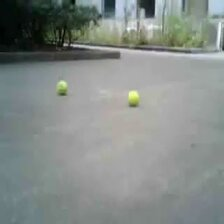tennis: (55, 79, 67, 93), (129, 91, 139, 104)
